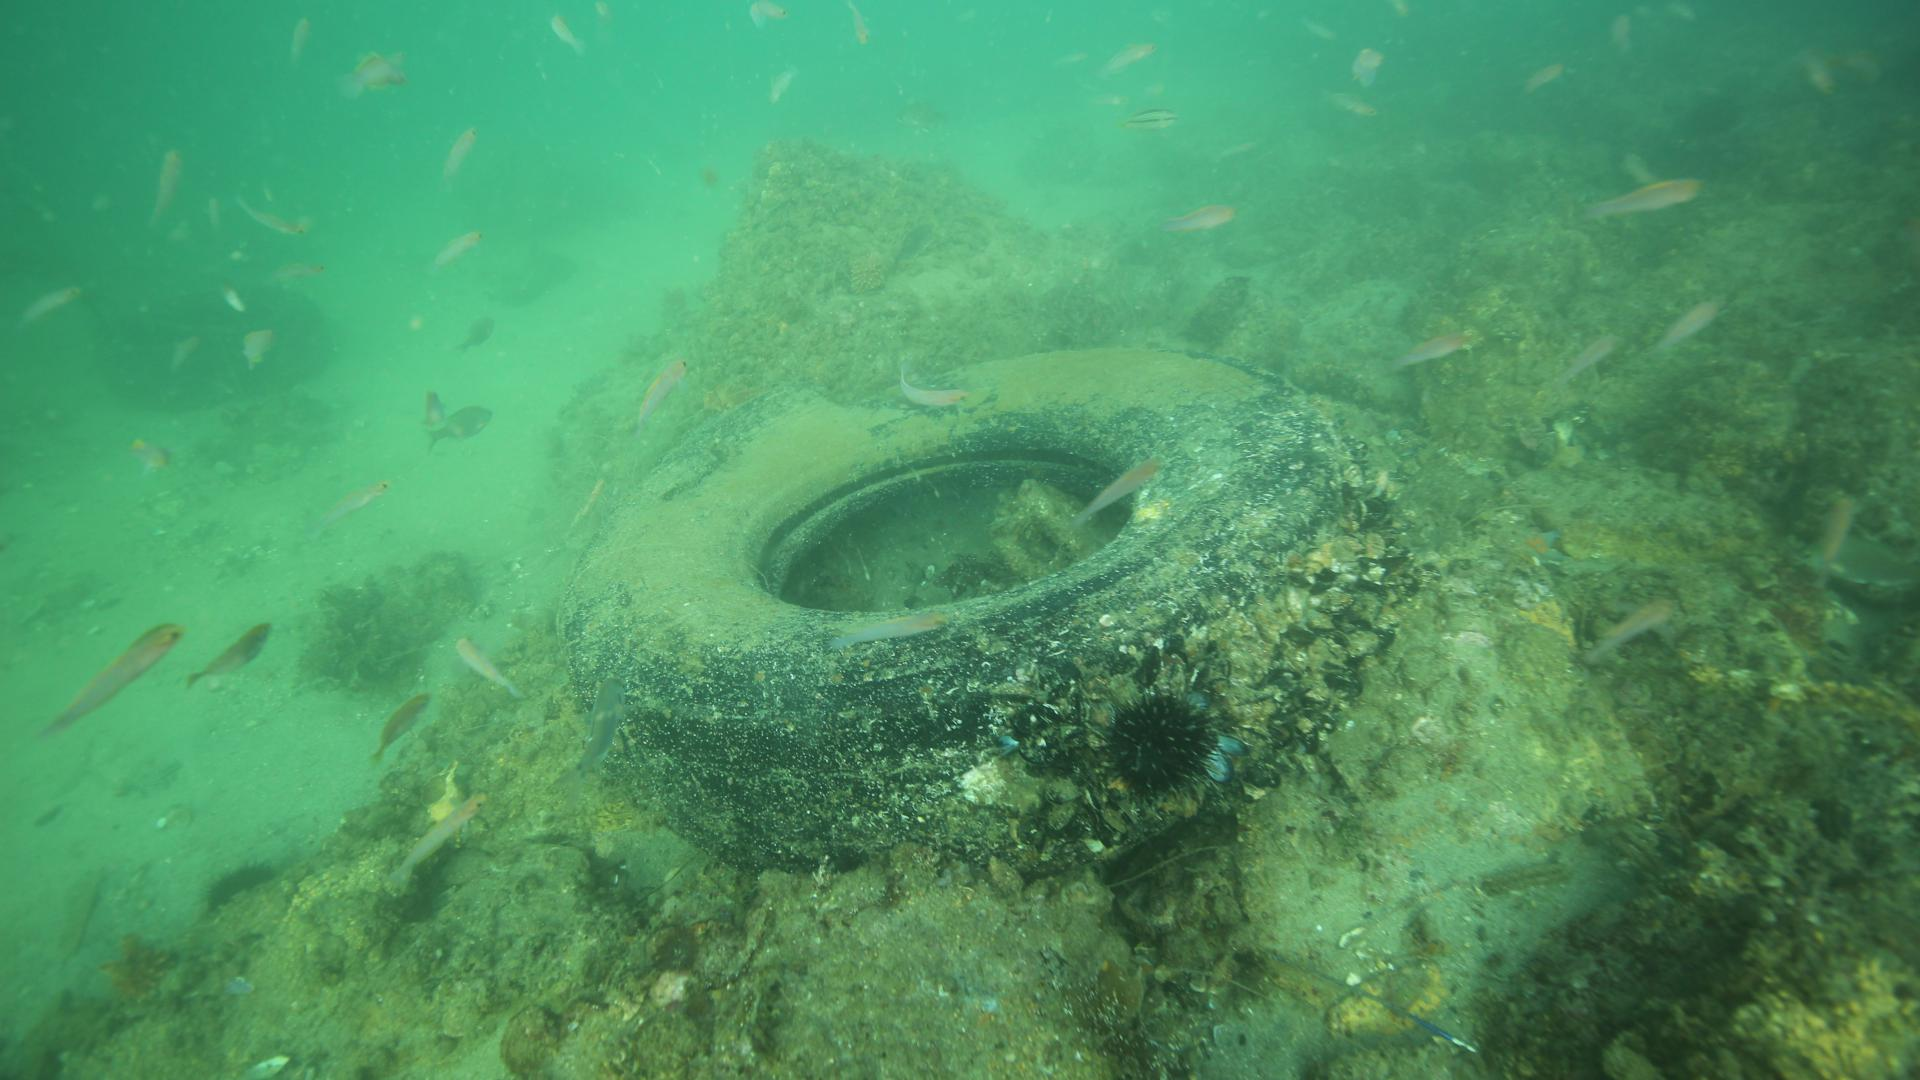tire: (558, 340, 1311, 866)
